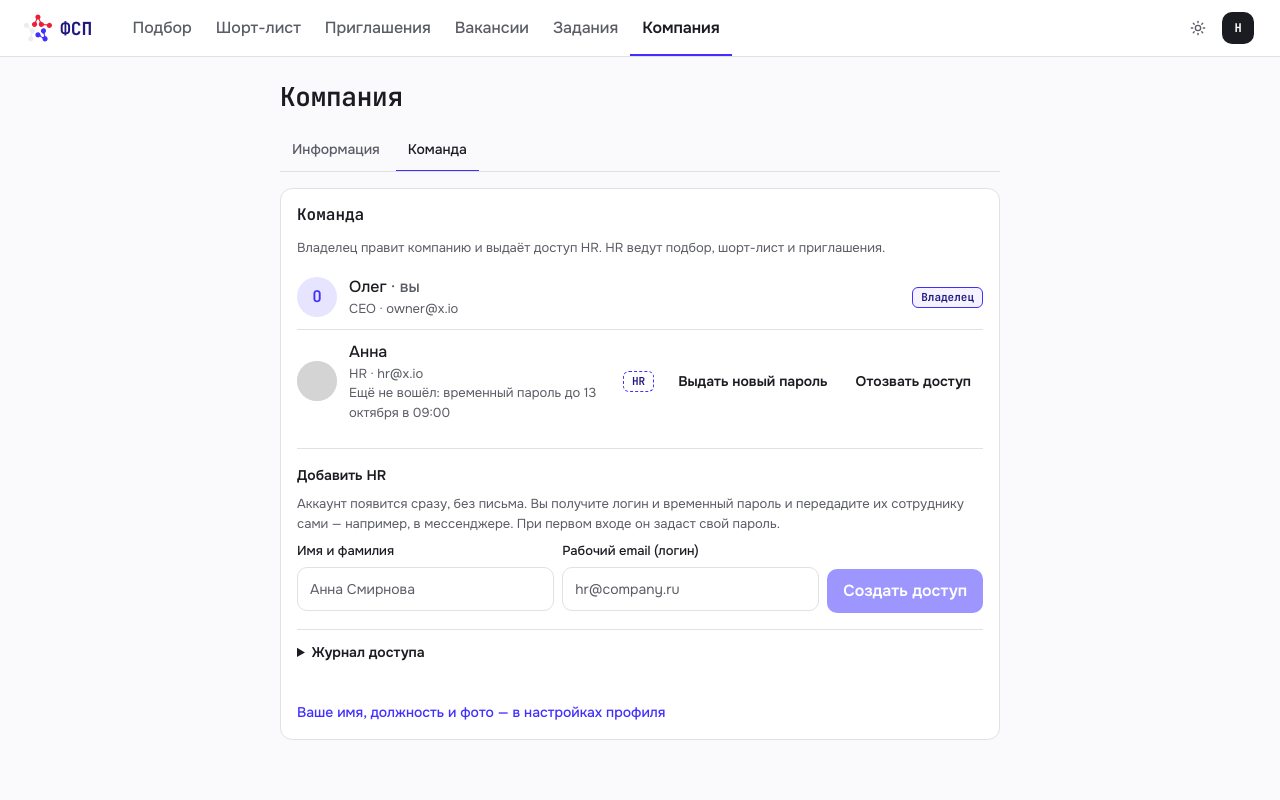
Scenario: владелец: создаёт доступ HR без почты и копирует логин с временным паролем
Expected: the number of list items with test id "company-member" is 2, top-left (297, 266), bottom-right (983, 329); top-left (297, 329), bottom-right (983, 432)
Expected: the text with test id "company-member-pending" shows "Ещё не вошёл", top-left (349, 384), bottom-right (596, 421)
Type "Зоя" into the field with test id "company-hr-name" at coordinates (426, 589), box top-left (297, 567), bottom-right (554, 611)
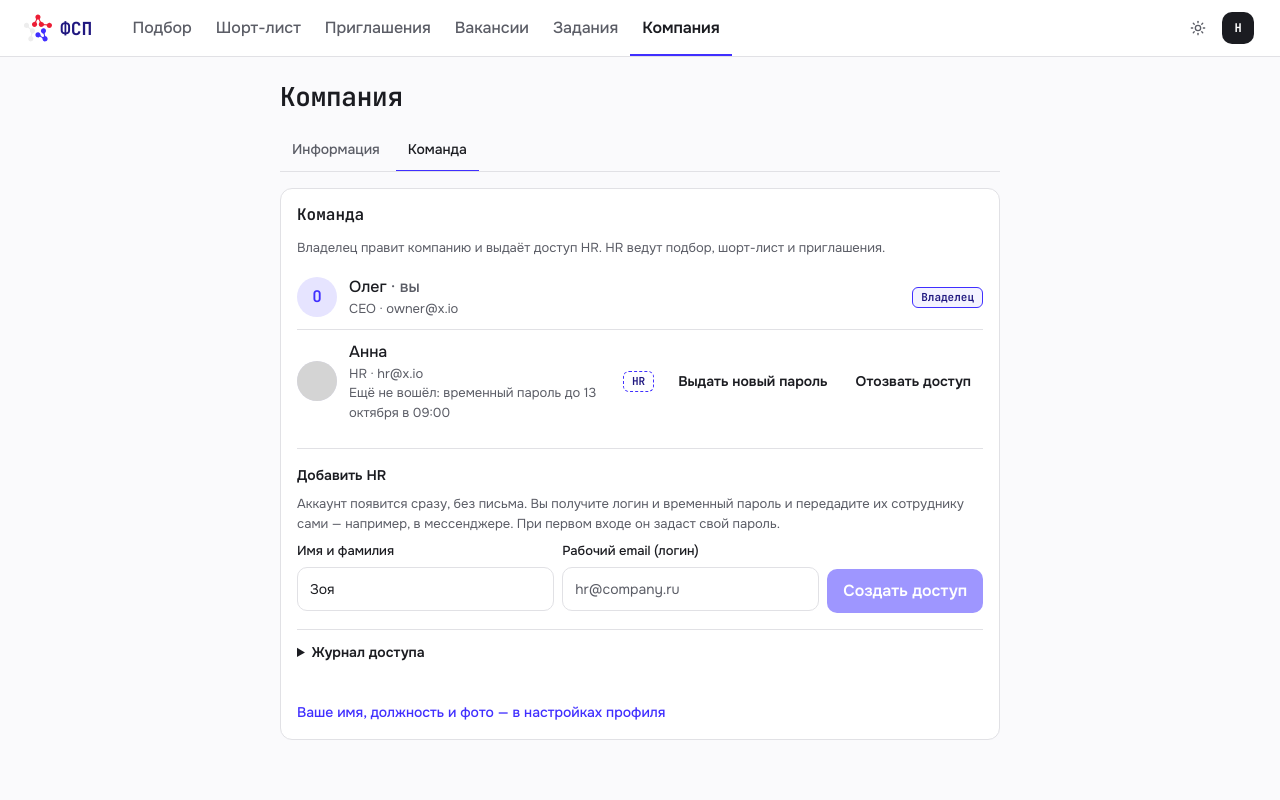
Type "zoya@x.io" into the field with test id "company-hr-email" at coordinates (691, 589), box top-left (562, 567), bottom-right (819, 611)
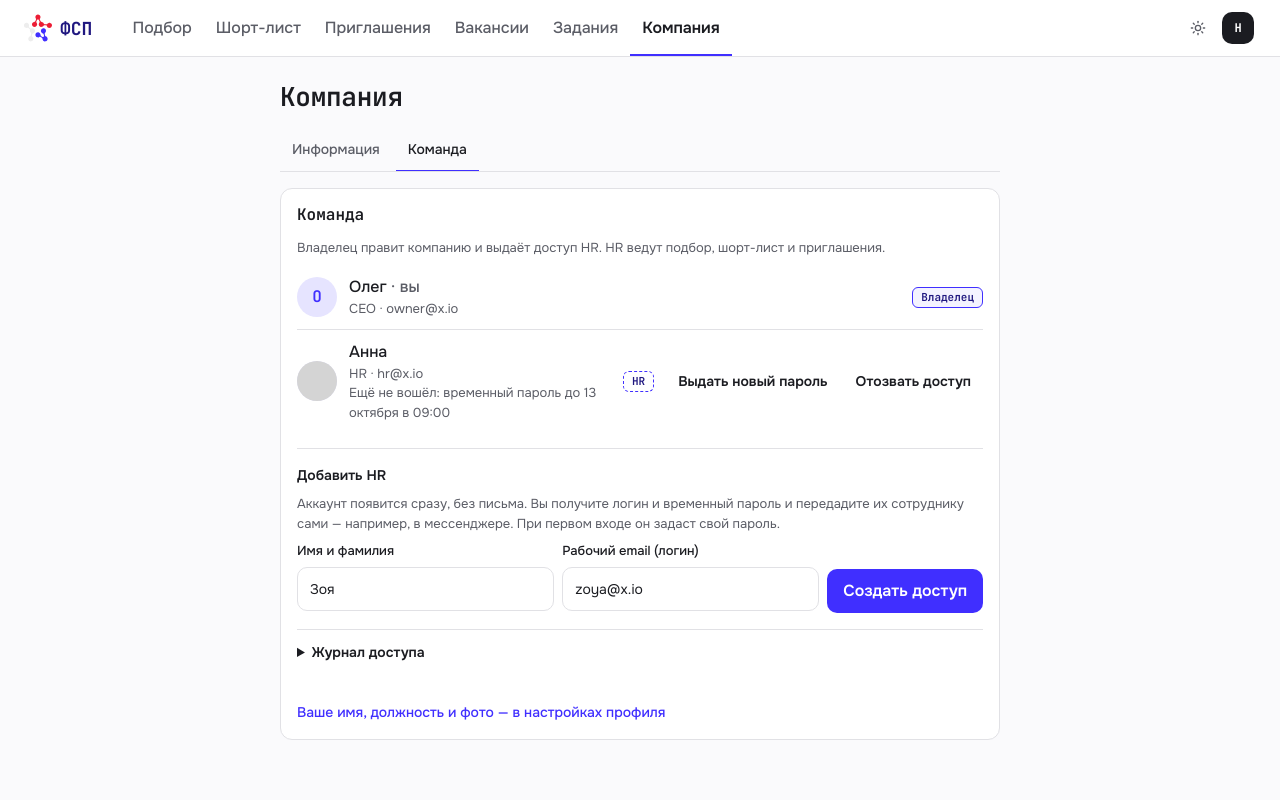
Submit the form with test id "company-hr-form", box top-left (297, 448), bottom-right (983, 614)
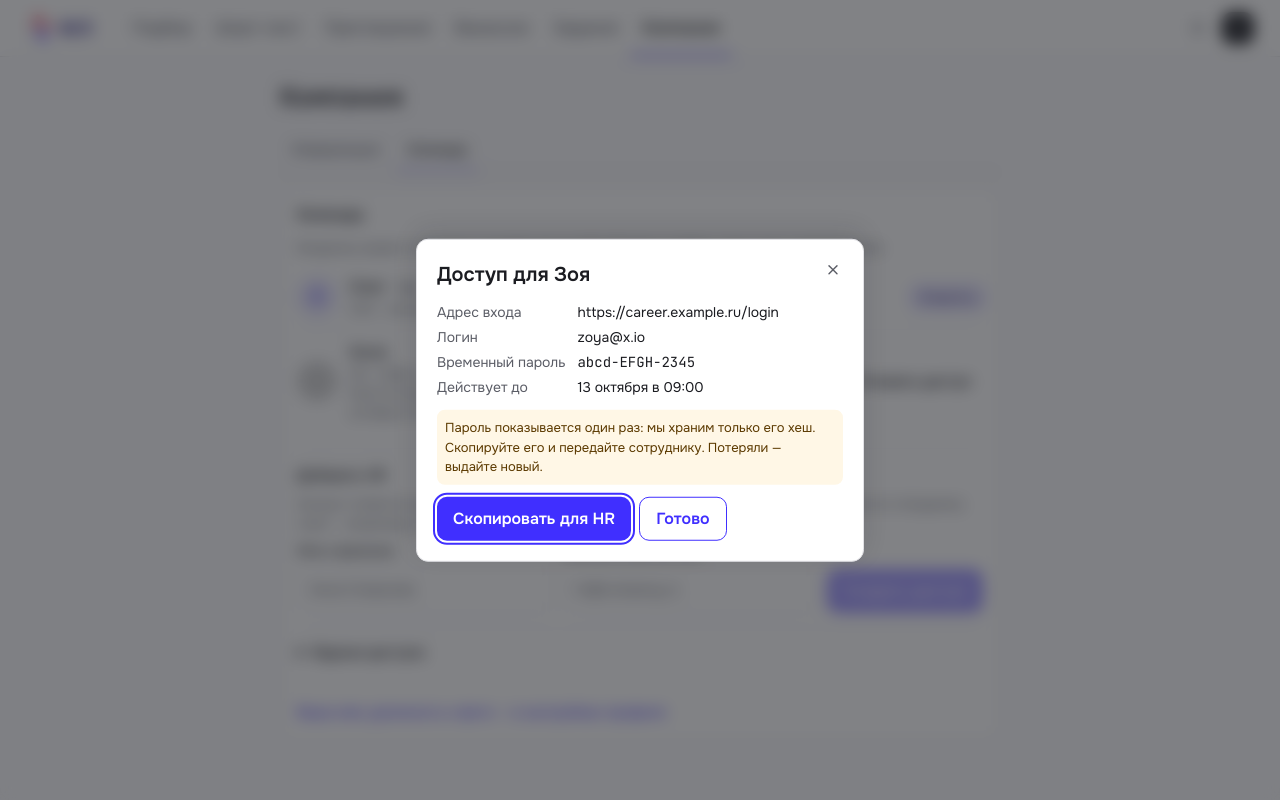
Expected: the text with test id "company-access-url" reads "https://career.example.ru/login", top-left (578, 303), bottom-right (779, 321)
Expected: the text with test id "company-access-password" reads "abcd-EFGH-2345", top-left (578, 353), bottom-right (695, 371)
Click the button with test id "company-access-copy" at coordinates (534, 518), box top-left (437, 496), bottom-right (631, 540)
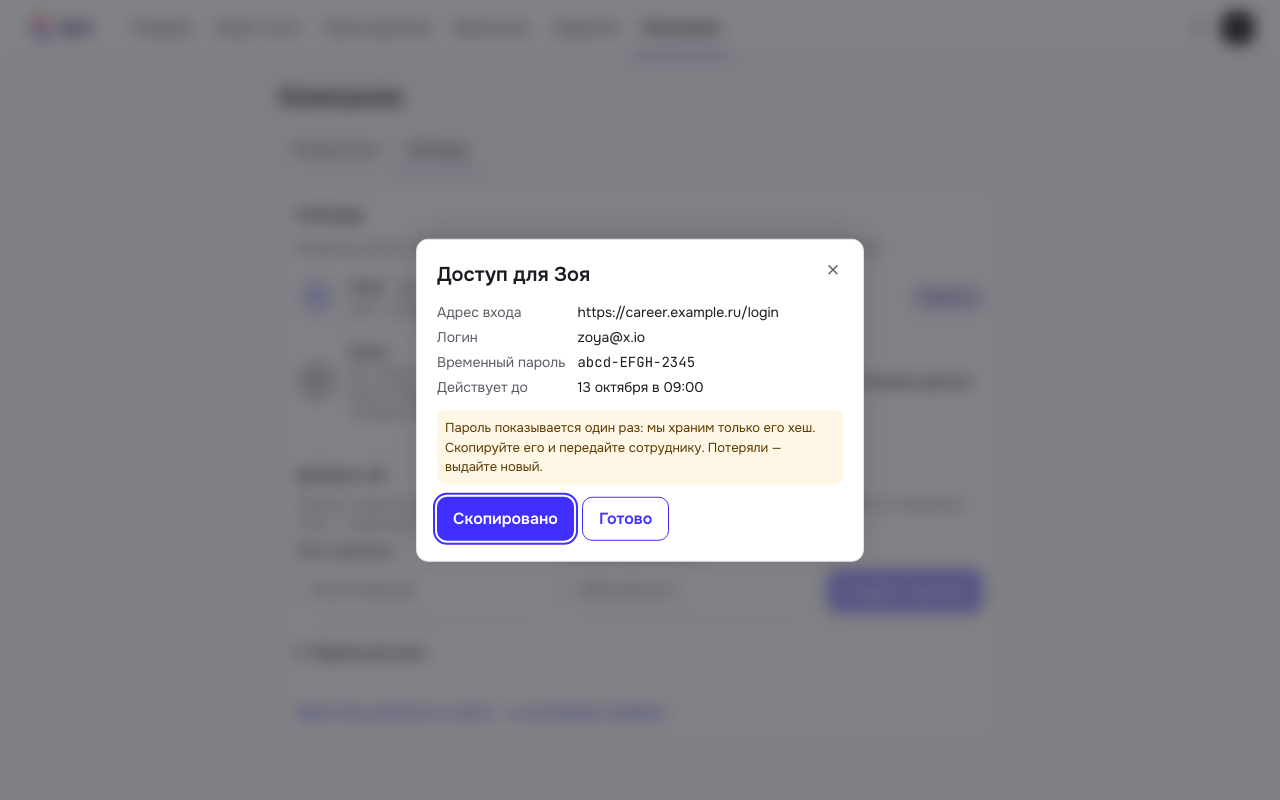
# карточка закрывается — пароль больше не показывается
Click the button with test id "company-access-close" at coordinates (626, 518), box top-left (582, 496), bottom-right (669, 540)
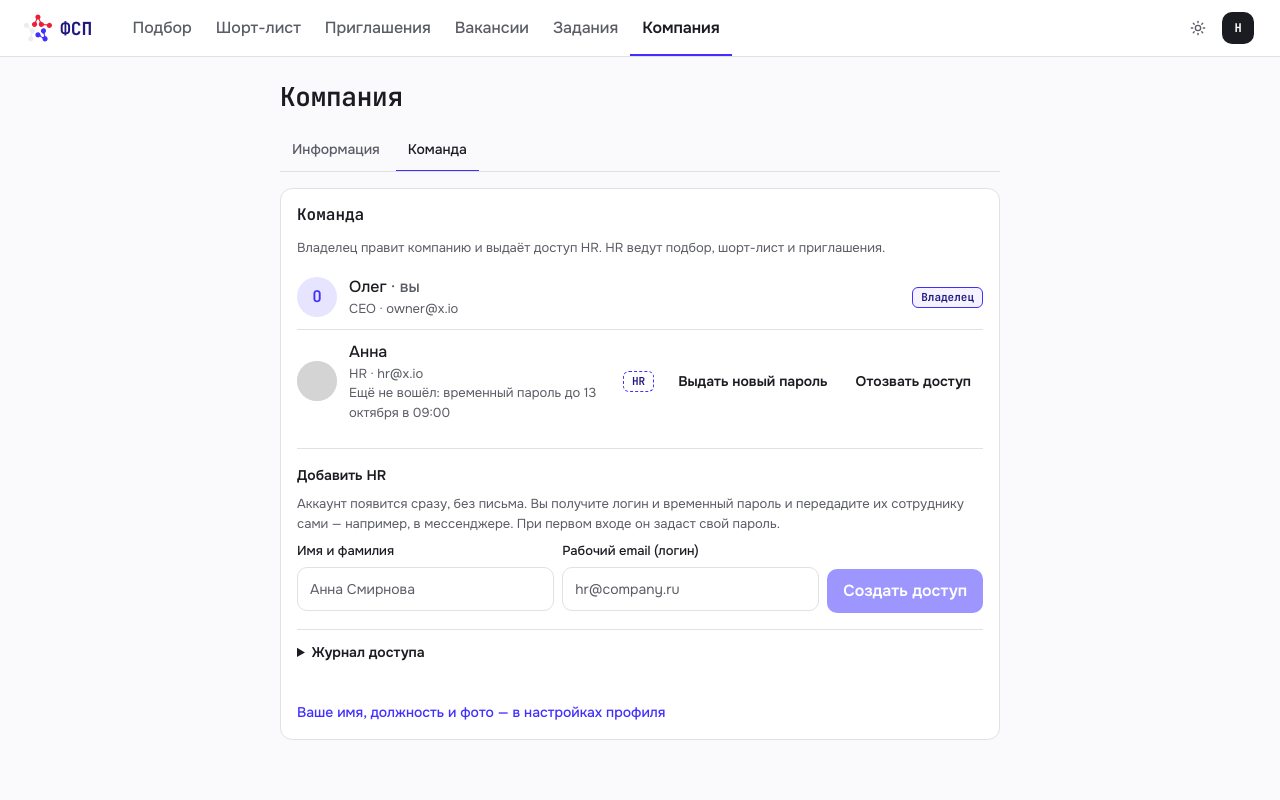
Expected: the dialog with test id "company-access-card" is gone
